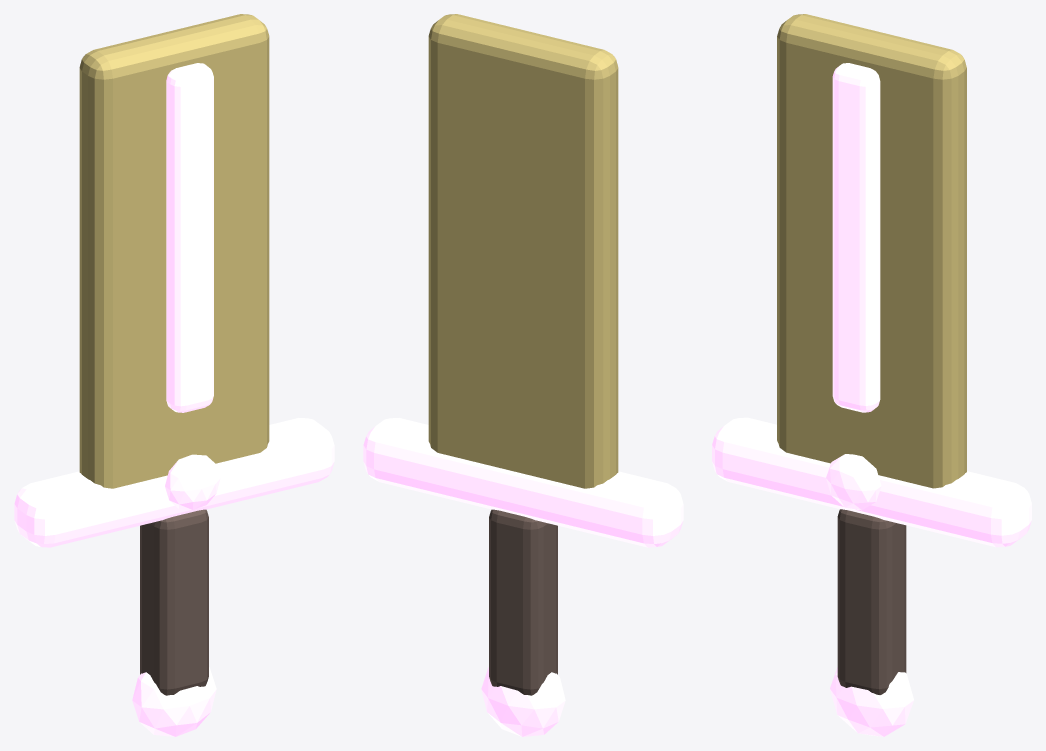
File: starcleaver.glb
The picture shows the model from 3 angles, left to right: view 1: azimuth 30°, elevation 25°; view 2: azimuth 150°, elevation 25°; view 3: azimuth 330°, elevation 25°; orthographic projection.
Parts seen in each view (by area): view 1: WeaponBlade, WeaponBladeSpine, WeaponGuard, WeaponGrip, WeaponPommel, WeaponGem; view 2: WeaponBlade, WeaponGuard, WeaponGrip, WeaponPommel; view 3: WeaponBlade, WeaponBladeSpine, WeaponGuard, WeaponGrip, WeaponPommel, WeaponGem.
Boxes of the visible parts, box(x1,y1,x2,y2) form: WeaponBlade: box(79, 14, 269, 488); WeaponBladeSpine: box(166, 63, 213, 412); WeaponGuard: box(14, 418, 334, 547); WeaponGrip: box(140, 509, 208, 695); WeaponPommel: box(132, 667, 216, 736); WeaponGem: box(165, 454, 220, 509); WeaponBlade: box(428, 14, 618, 488); WeaponGuard: box(363, 418, 683, 547); WeaponGrip: box(489, 509, 557, 695); WeaponPommel: box(481, 667, 565, 736); WeaponBlade: box(777, 14, 966, 488); WeaponBladeSpine: box(832, 63, 880, 412); WeaponGuard: box(712, 417, 1031, 547); WeaponGrip: box(837, 509, 906, 694); WeaponPommel: box(830, 667, 913, 736); WeaponGem: box(826, 454, 881, 510).
Bounding box in the file's own units: 1.16 × 2.55 × 0.28.
